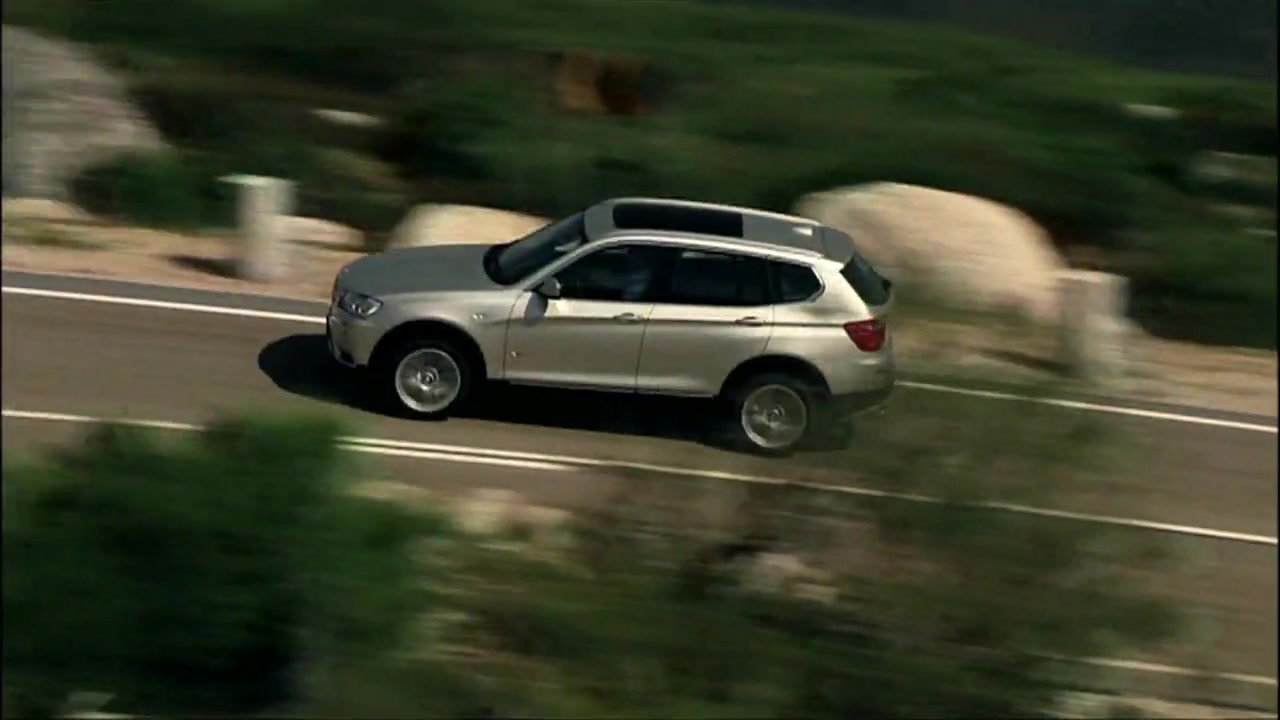car: (321, 191, 905, 462)
